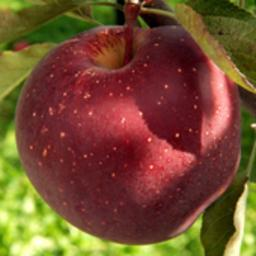apple: (14, 13, 246, 248)
